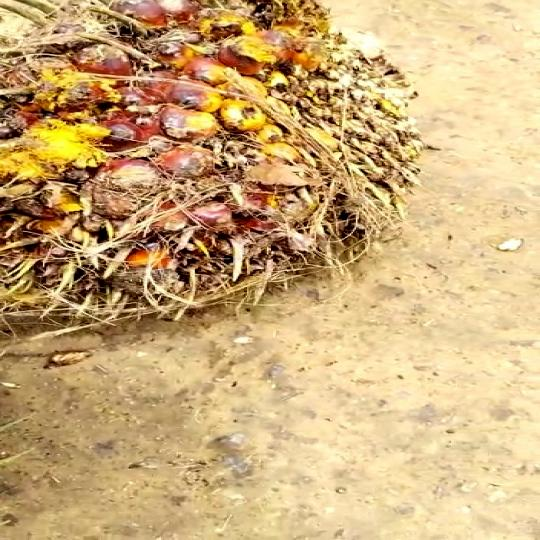masak: (0, 0, 414, 348)
